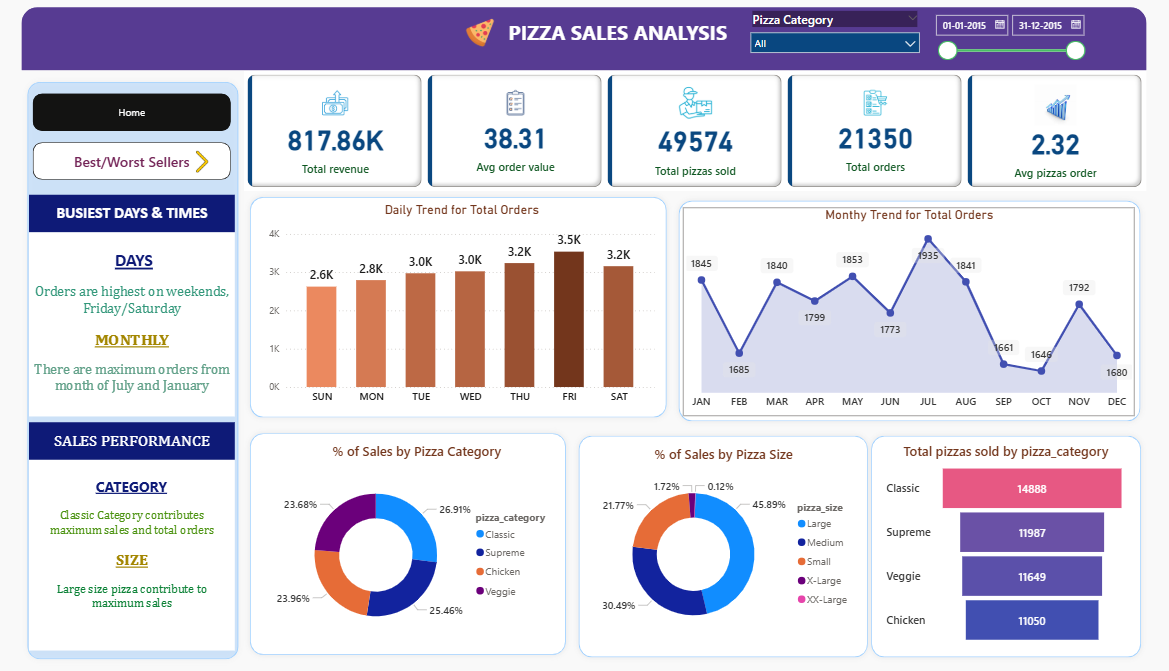

The page's visual inventory and layout, read from the dashboard file:
{"tool":"powerbi","page":{"name":"Home","canvas":[1650,1000],"ordinal":0},"visuals":[{"type":"cardVisual","fields":{"Data":["pizza_sales.Total revenue","pizza_sales.Avg order value","pizza_sales.Total pizzas sold","pizza_sales.Total orders","pizza_sales.Avg pizzas order"]},"box":[367.1,100,1202.9,160],"z":0},{"type":"shape","box":[70,15.7,1500,84.3],"z":1000},{"type":"textbox","box":[710,24.3,310,50],"z":2000},{"type":"image","box":[652.9,25.7,55.7,48.6],"z":3000},{"type":"shape","box":[367.1,260,571.4,310],"z":4000},{"type":"columnChart","title":"Daily Trend for Total Orders ","fields":{"Category":["pizza_sales.Order day"],"Y":["pizza_sales.Total orders"]},"box":[394.3,275.7,524.3,278.6],"z":5000},{"type":"shape","box":[938.6,264.3,631.4,310],"z":6000},{"type":"areaChart","title":"Monthy Trend for Total Orders","fields":{"Y":["pizza_sales.Total orders"],"Category":["pizza_sales.Order Month"]},"box":[951.4,281.4,604.3,278.6],"z":7000},{"type":"shape","box":[367.1,574.3,437.1,311.4],"z":8000},{"type":"shape","box":[804.3,578.6,401.4,311.4],"z":9000},{"type":"shape","box":[1194.3,578.6,375.7,311.4],"z":10000},{"type":"donutChart","title":"% of Sales by Pizza Category","fields":{"Category":["pizza_sales.pizza_category"],"Y":["pizza_sales.Total revenue"]},"box":[405.7,594.3,384.3,278.6],"z":11000},{"type":"shape","box":[70,107.1,297.1,785.7],"z":12000},{"type":"donutChart","title":"% of Sales by Pizza Size","fields":{"Y":["pizza_sales.Total revenue"],"Category":["pizza_sales.pizza_size"]},"box":[822.9,598.6,365.7,270],"z":13000},{"type":"funnel","fields":{"Category":["pizza_sales.pizza_category"],"Y":["pizza_sales.Total pizzas sold"]},"box":[1218.6,595.7,328.6,275.7],"z":14000},{"type":"textbox","box":[80,264.3,274.3,50],"z":15000},{"type":"textbox","box":[80,314.3,274.3,245.7],"z":16000},{"type":"textbox","box":[80,568.6,274.3,50],"z":17000},{"type":"textbox","box":[80,618.6,274.3,254.3],"z":18000},{"type":"slicer","fields":{"Values":["pizza_sales.pizza_category"]},"box":[1031.4,15.7,245.7,84.3],"z":19000},{"type":"slicer","fields":{"Values":["pizza_sales.order_date"]},"box":[1277.1,15.7,220,84.3],"z":20000},{"type":"pageNavigator","box":[84.3,130,264.3,50],"z":20001},{"type":"pageNavigator","box":[84.3,194.3,264.3,50],"z":20002},{"type":"image","box":[291.4,201.4,38.6,38.6],"z":20003}]}

Visuals, with their boxes on the page's 1650x1000 design canvas (x1, y1, x2, y2). These are canvas units, not pixel positions in the 1169x671 screenshot, which may show the page scaled, cropped or inside an application window:
cardVisual - pizza_sales.Total revenue x pizza_sales.Avg order value: x1=367 y1=100 x2=1570 y2=260
shape: x1=70 y1=16 x2=1570 y2=100
textbox: x1=710 y1=24 x2=1020 y2=74
image: x1=653 y1=26 x2=709 y2=74
shape: x1=367 y1=260 x2=938 y2=570
"Daily Trend for Total Orders " columnChart: x1=394 y1=276 x2=919 y2=554
shape: x1=939 y1=264 x2=1570 y2=574
"Monthy Trend for Total Orders" areaChart: x1=951 y1=281 x2=1556 y2=560
shape: x1=367 y1=574 x2=804 y2=886
shape: x1=804 y1=579 x2=1206 y2=890
shape: x1=1194 y1=579 x2=1570 y2=890
"% of Sales by Pizza Category" donutChart: x1=406 y1=594 x2=790 y2=873
shape: x1=70 y1=107 x2=367 y2=893
"% of Sales by Pizza Size" donutChart: x1=823 y1=599 x2=1189 y2=869
funnel - pizza_sales.pizza_category x pizza_sales.Total pizzas sold: x1=1219 y1=596 x2=1547 y2=871
textbox: x1=80 y1=264 x2=354 y2=314
textbox: x1=80 y1=314 x2=354 y2=560
textbox: x1=80 y1=569 x2=354 y2=619
textbox: x1=80 y1=619 x2=354 y2=873
slicer - pizza_sales.pizza_category: x1=1031 y1=16 x2=1277 y2=100
slicer - pizza_sales.order_date: x1=1277 y1=16 x2=1497 y2=100
pageNavigator: x1=84 y1=130 x2=349 y2=180
pageNavigator: x1=84 y1=194 x2=349 y2=244
image: x1=291 y1=201 x2=330 y2=240
